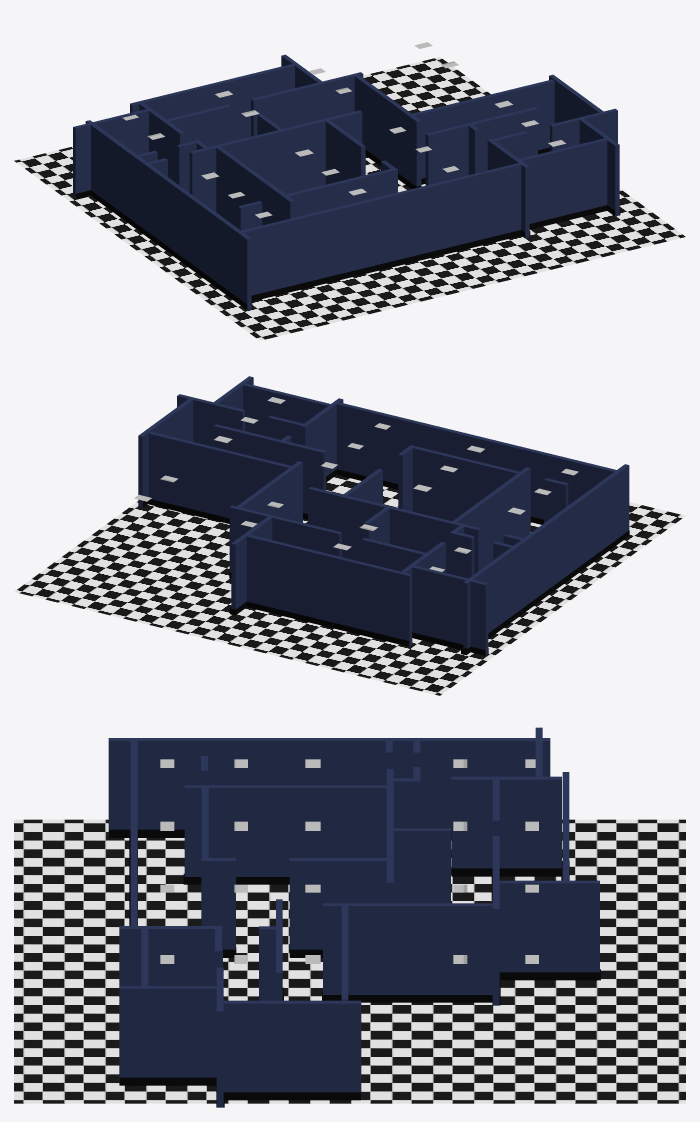
Rendered from Museo_text.glb.
3 views of the same model, one above another, from view 1: azimuth 30°, elevation 25°; view 2: azimuth 150°, elevation 25°; view 3: azimuth 270°, elevation 25° (orthographic). The views are drawn at different scales.
Parts seen in each view (by area): view 1: Cube.028, Plane, Plane.001; view 2: Cube.028, Plane, Plane.001; view 3: Cube.028, Plane, Plane.001.
Part boxes in pixels (left/top/right/bottom): Cube.028: left=73, top=54, right=620, bottom=309; Plane: left=14, top=57, right=685, bottom=340; Plane.001: left=122, top=42, right=565, bottom=218; Cube.028: left=138, top=376, right=629, bottom=655; Plane: left=14, top=475, right=685, bottom=695; Plane.001: left=134, top=397, right=578, bottom=571; Cube.028: left=108, top=727, right=600, bottom=1107; Plane: left=14, top=819, right=685, bottom=1103; Plane.001: left=160, top=759, right=538, bottom=963.
Size of the model in its own units: 76.24 by 11.91 by 75.16.
4 materials, 4 textured.
